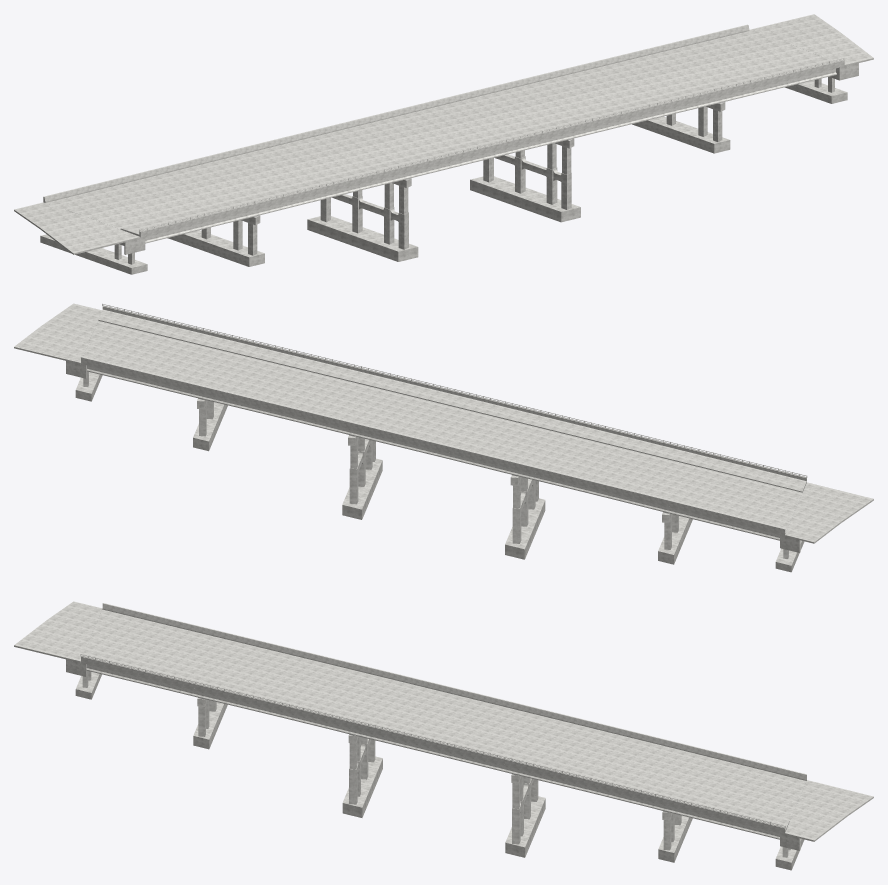
Rendered from model_render.glb.
3 views of the same model, one above another, from view 1: azimuth 30°, elevation 25°; view 2: azimuth 150°, elevation 25°; view 3: azimuth 330°, elevation 25° (orthographic).
Visible parts, largest first — view 1: deck, sidewalk, ft_rail, ps1_base, approach_-1, approach_1, footing_2, footing_3, footing_4, footing_1, bulbt_2_6, bulbt_1_6 (+11 smaller); view 2: deck, sidewalk, ft_rail, ps1_base, approach_-1, approach_1, bulbt_2_0, footing_3, footing_2, bulbt_3_0, bulbt_1_0, ps1_beam_0 (+7 smaller); view 3: deck, sidewalk, ft_rail, ps1_base, approach_1, approach_-1, bulbt_2_6, bulbt_1_6, bulbt_3_6, footing_2, footing_3, ps1_beam_0 (+6 smaller).
Boxes of the visible parts, x1,y1,x2,y2 form: deck: [46, 31, 844, 237]; sidewalk: [120, 56, 836, 236]; ft_rail: [43, 24, 749, 202]; ps1_base: [139, 60, 844, 236]; approach_-1: [14, 202, 140, 254]; approach_1: [749, 14, 873, 66]; footing_2: [307, 216, 418, 261]; footing_3: [470, 176, 580, 222]; footing_4: [632, 116, 730, 153]; footing_1: [167, 230, 264, 266]; bulbt_2_6: [407, 132, 571, 178]; bulbt_1_6: [256, 172, 408, 215]; deck: [81, 321, 802, 535]; sidewalk: [98, 309, 806, 492]; ft_rail: [81, 356, 785, 534]; ps1_base: [102, 306, 806, 482]; approach_-1: [785, 482, 873, 543]; approach_1: [14, 303, 101, 364]; bulbt_2_0: [352, 430, 514, 474]; footing_3: [342, 458, 382, 519]; footing_2: [505, 498, 545, 559]; bulbt_3_0: [201, 393, 351, 435]; bulbt_1_0: [515, 470, 665, 512]; ps1_beam_0: [103, 305, 806, 477]; deck: [81, 609, 806, 833]; sidewalk: [82, 649, 789, 831]; ft_rail: [102, 603, 806, 780]; ps1_base: [81, 656, 785, 832]; approach_1: [785, 780, 873, 841]; approach_-1: [14, 601, 102, 663]; bulbt_2_6: [351, 728, 514, 774]; bulbt_1_6: [200, 691, 351, 734]; bulbt_3_6: [514, 767, 665, 811]; footing_2: [342, 756, 382, 817]; footing_3: [505, 796, 545, 857]; ps1_beam_0: [81, 655, 784, 827].
Size of the model in its own units: 170 by 19.88 by 22.01.
3 materials, 2 textured.
